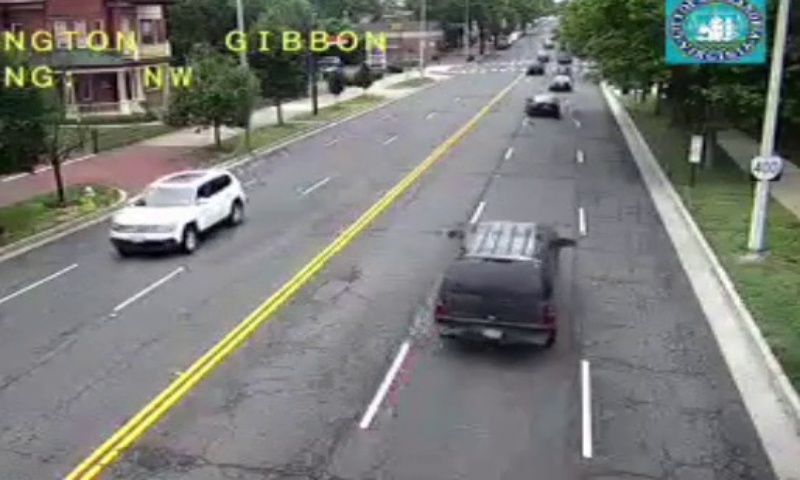car: (434, 222, 555, 348), (526, 94, 560, 117)
